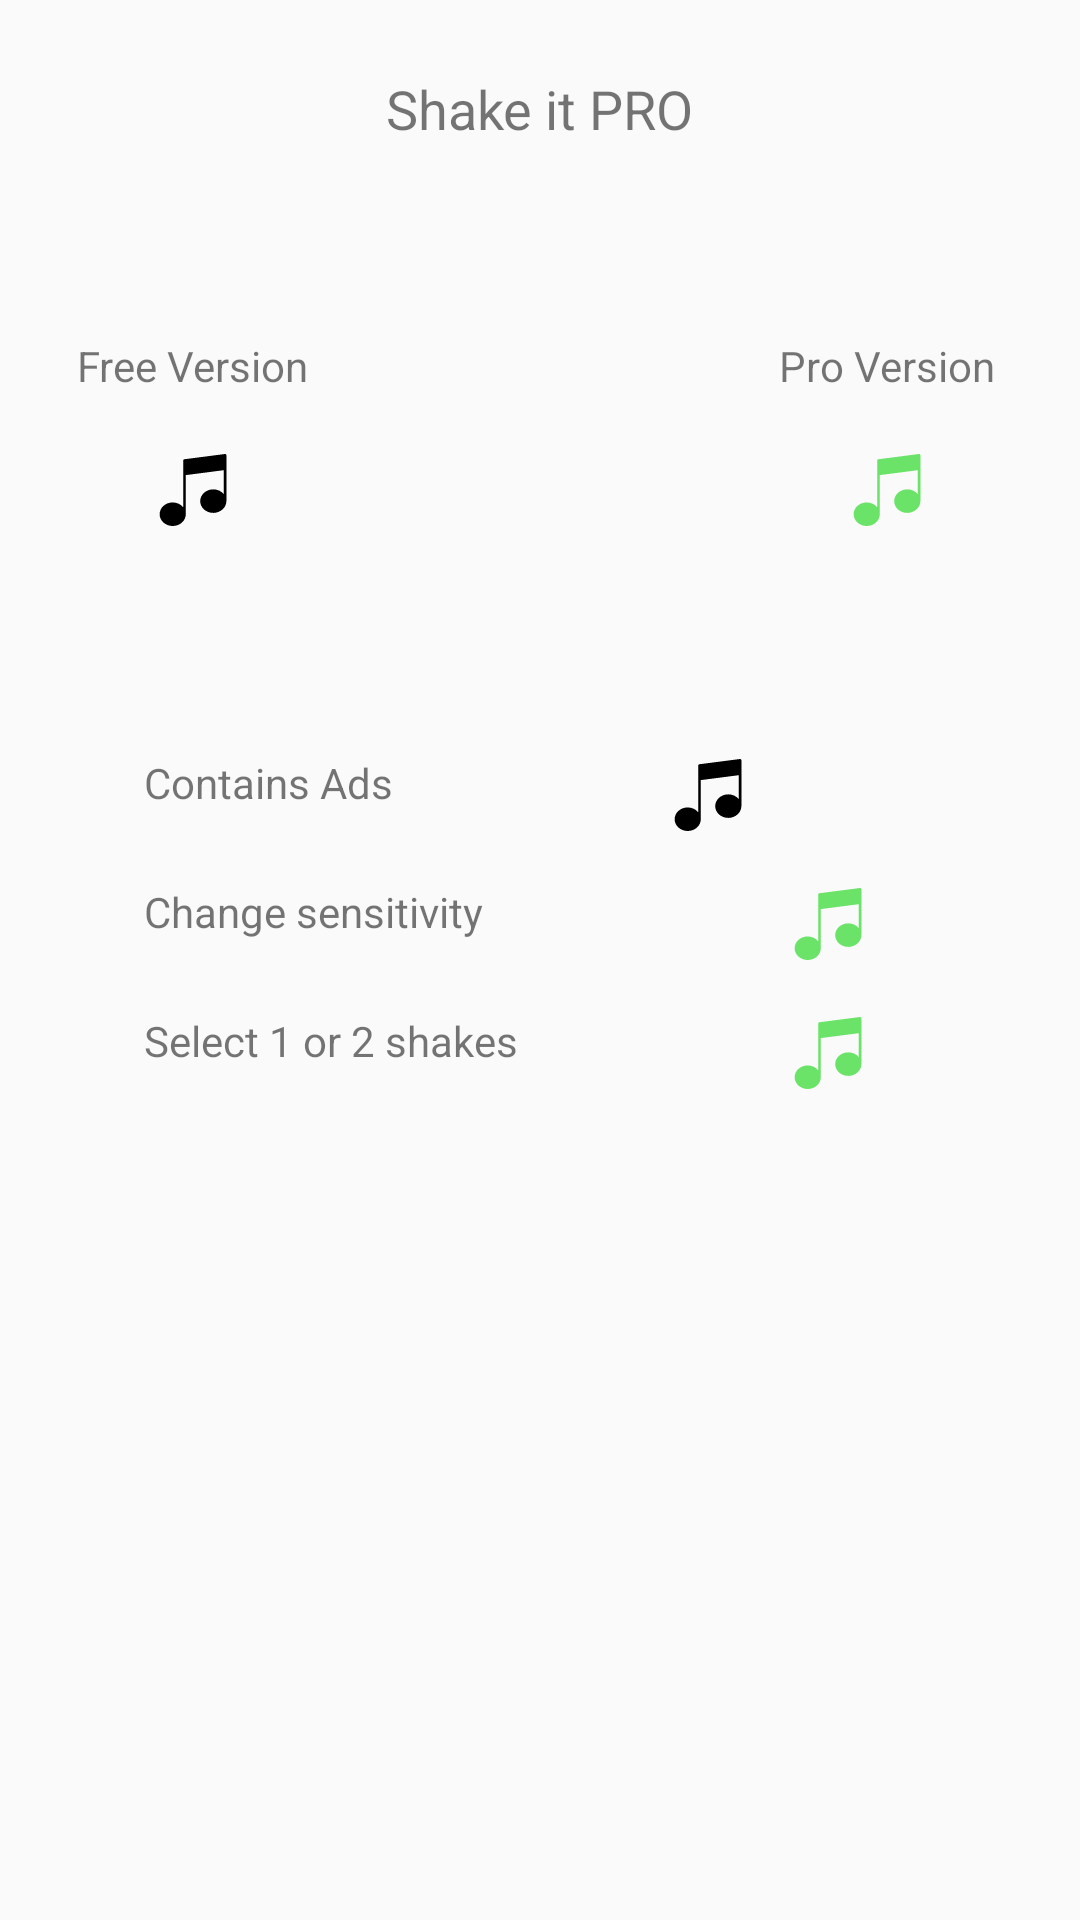

Screen size 1080×1920. Icon name, then its center in pixels as point (x, y):
note: point (193, 490), point (887, 490), point (708, 795), point (828, 924), point (828, 1053)
